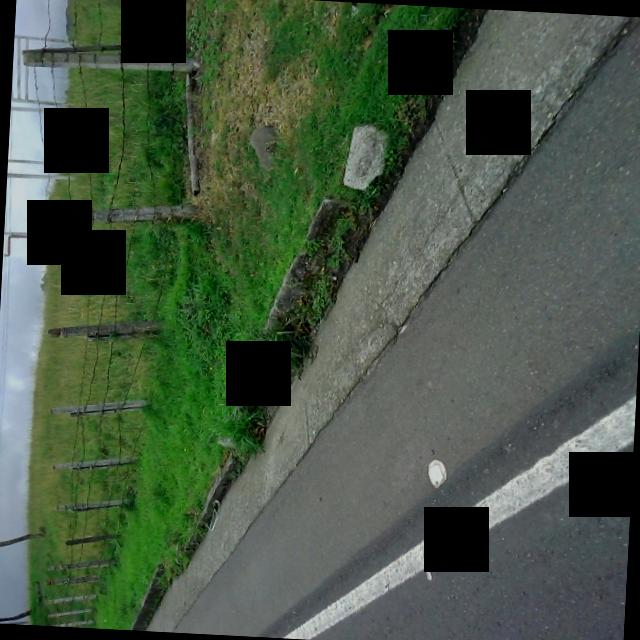DITCH: (115, 0, 640, 640), (135, 0, 640, 640)
